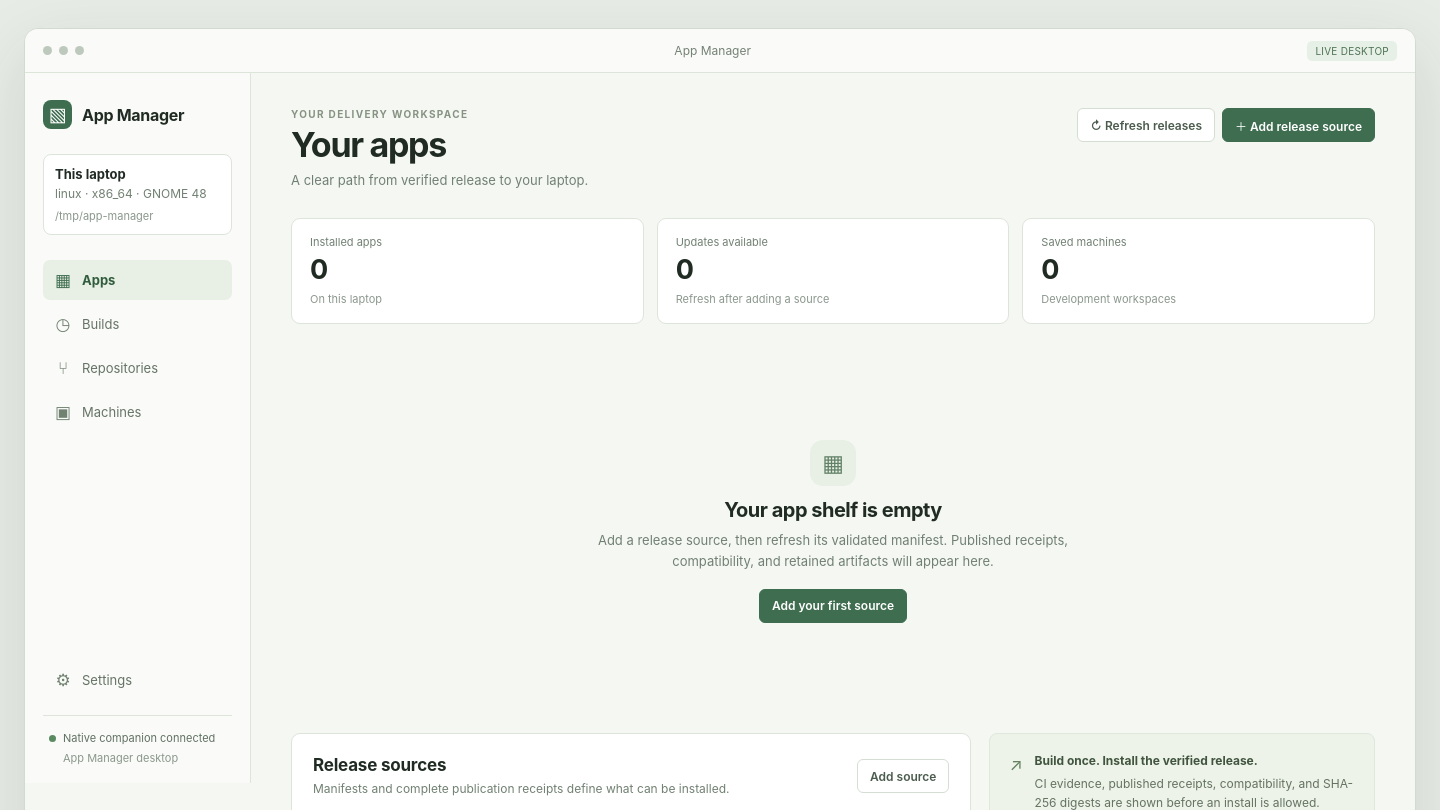
App Manager runtime boundaries › validates a release source identity before invoking the native bridge
This screenshot has width=1440, height=810.
Expected: the heading "Your app shelf is empty" is shown, [724,498,942,523]
Click the button "＋ Add release source" at (1298, 125), box [1222,108,1375,142]
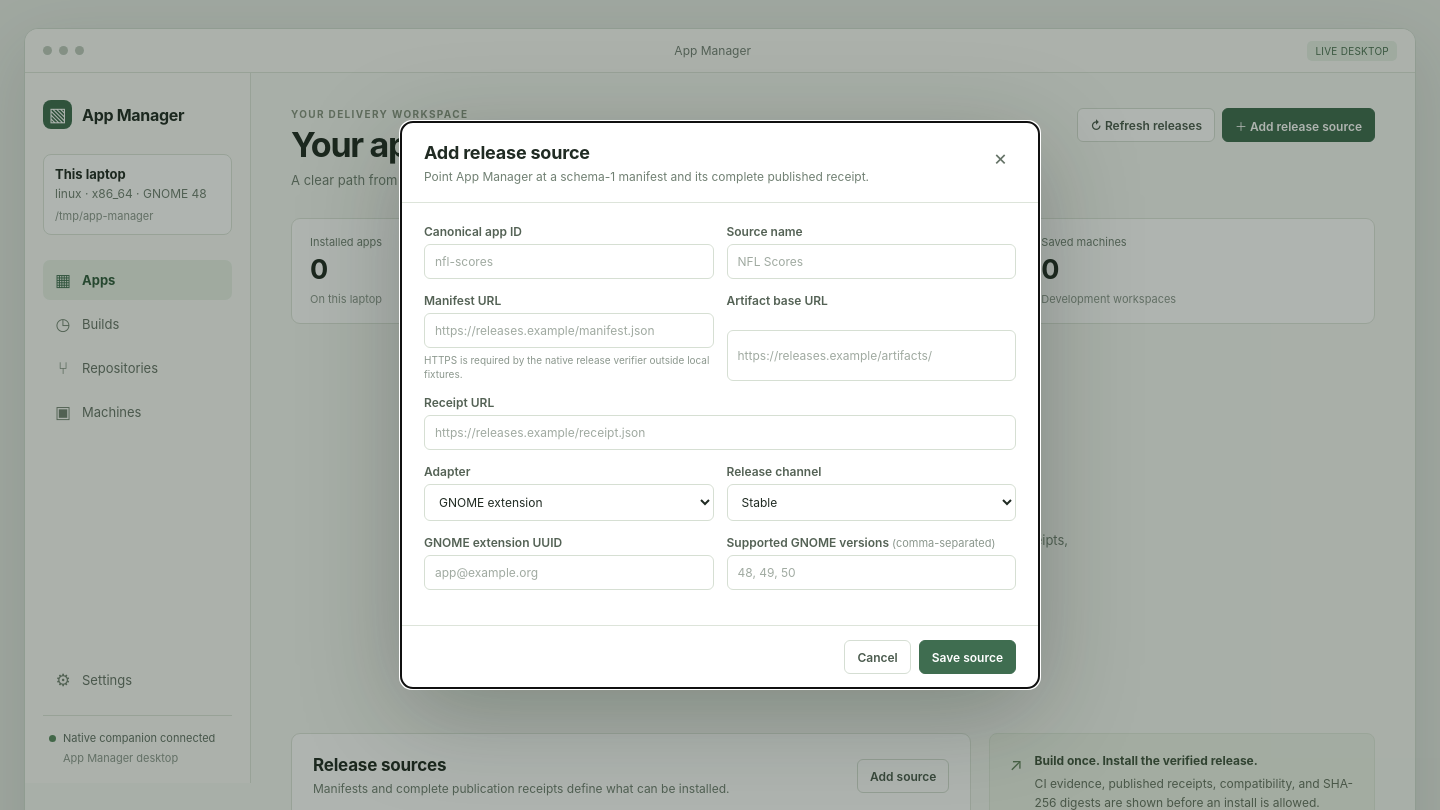
Click the button "Save source" at (967, 657), box [919,640,1016,674]
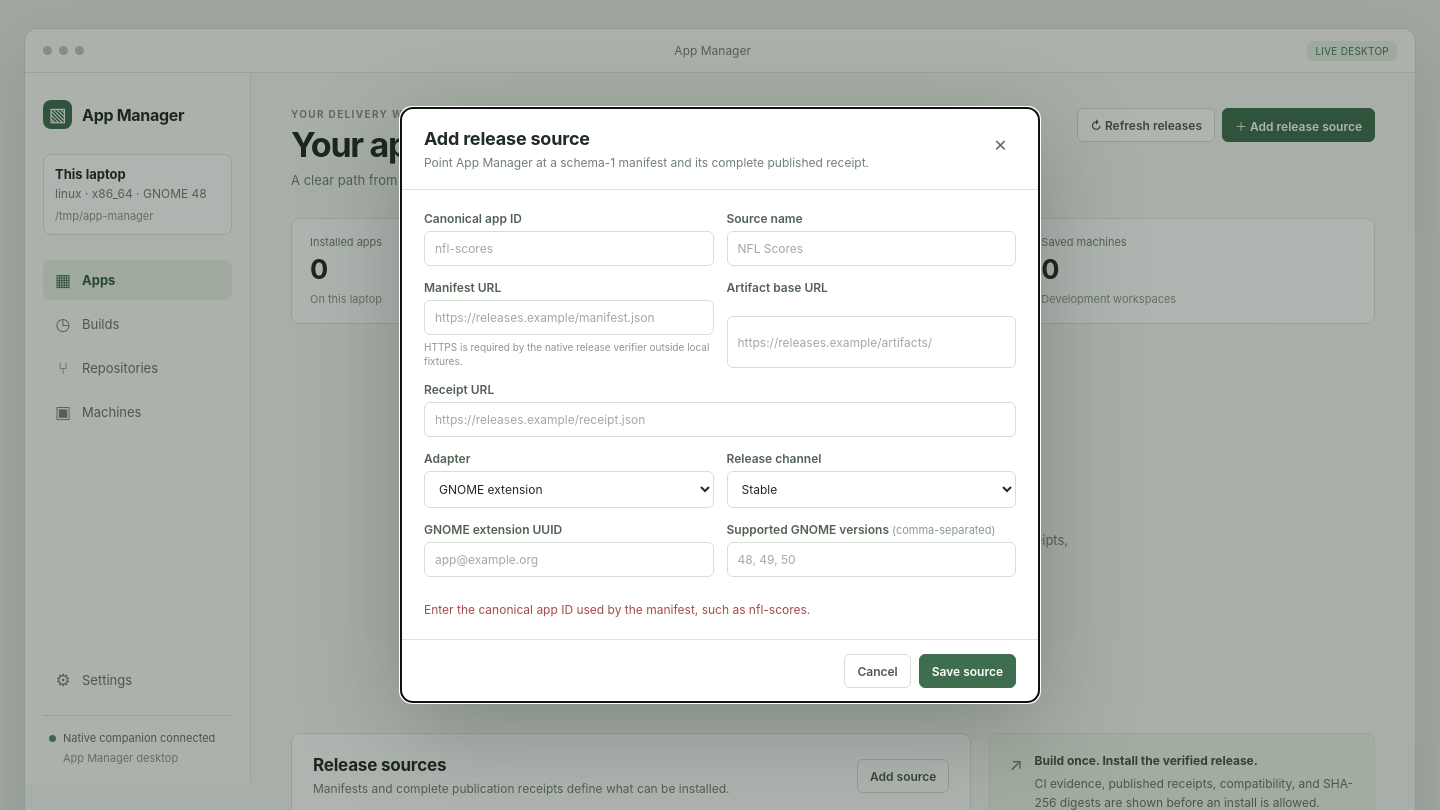
Expected: the message shows "canonical app ID", [424,602,810,617]
